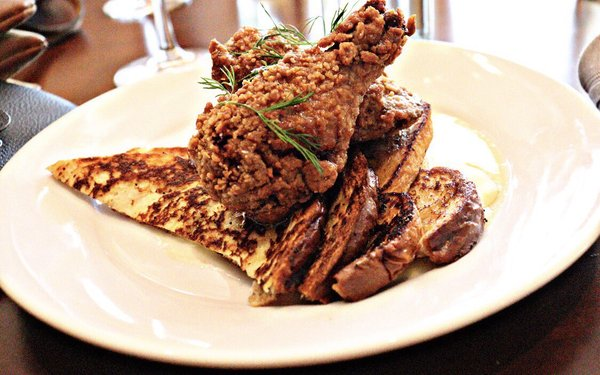soup: (43, 21, 436, 307)
